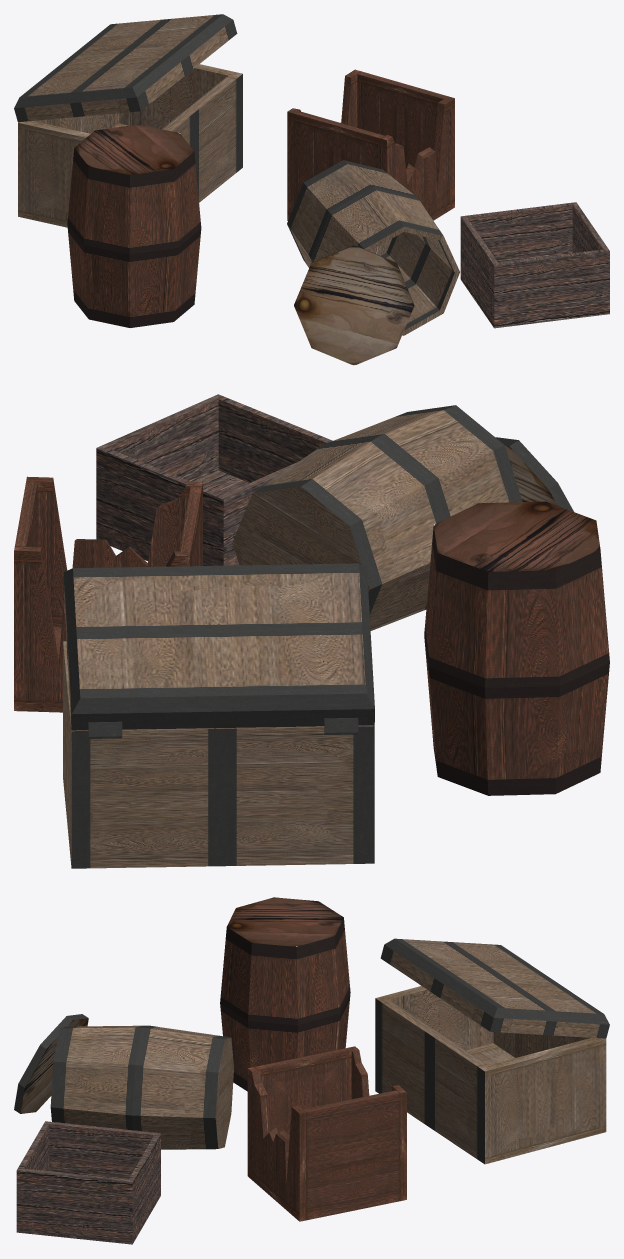
The model's file is bag_props.glb.
3 renders of one model, top to bottom at view 1: azimuth 30°, elevation 25°; view 2: azimuth 150°, elevation 25°; view 3: azimuth 270°, elevation 25°, orthographic. The views are drawn at different scales.
Parts seen in each view (by area): view 1: Object_8, Object_6, Object_22, Object_24, Object_10, Object_26, Object_20; view 2: Object_26, Object_8, Object_24, Object_10, Object_6, Object_22, Object_20; view 3: Object_24, Object_22, Object_8, Object_10, Object_6, Object_26, Object_20.
Boxes of the visible parts, left/top/right/bottom form: Object_8: left=67, top=124, right=201, bottom=327; Object_6: left=460, top=202, right=609, bottom=328; Object_22: left=287, top=69, right=454, bottom=220; Object_24: left=18, top=64, right=242, bottom=227; Object_10: left=287, top=160, right=459, bottom=335; Object_26: left=14, top=14, right=237, bottom=122; Object_20: left=294, top=245, right=414, bottom=365; Object_26: left=63, top=563, right=374, bottom=730; Object_8: left=424, top=501, right=609, bottom=795; Object_24: left=63, top=641, right=374, bottom=868; Object_10: left=232, top=405, right=522, bottom=630; Object_6: left=96, top=394, right=332, bottom=565; Object_22: left=14, top=476, right=202, bottom=712; Object_20: left=495, top=437, right=573, bottom=511; Object_24: left=375, top=986, right=606, bottom=1164; Object_22: left=247, top=1046, right=406, bottom=1221; Object_8: left=220, top=897, right=350, bottom=1091; Object_10: left=50, top=1025, right=233, bottom=1149; Object_6: left=16, top=1121, right=160, bottom=1244; Object_26: left=380, top=938, right=609, bottom=1038; Object_20: left=14, top=1014, right=88, bottom=1113.
Size of the model in its own units: 2.23 by 0.8202 by 2.76.
Materials: 2 (2 with a texture image).
